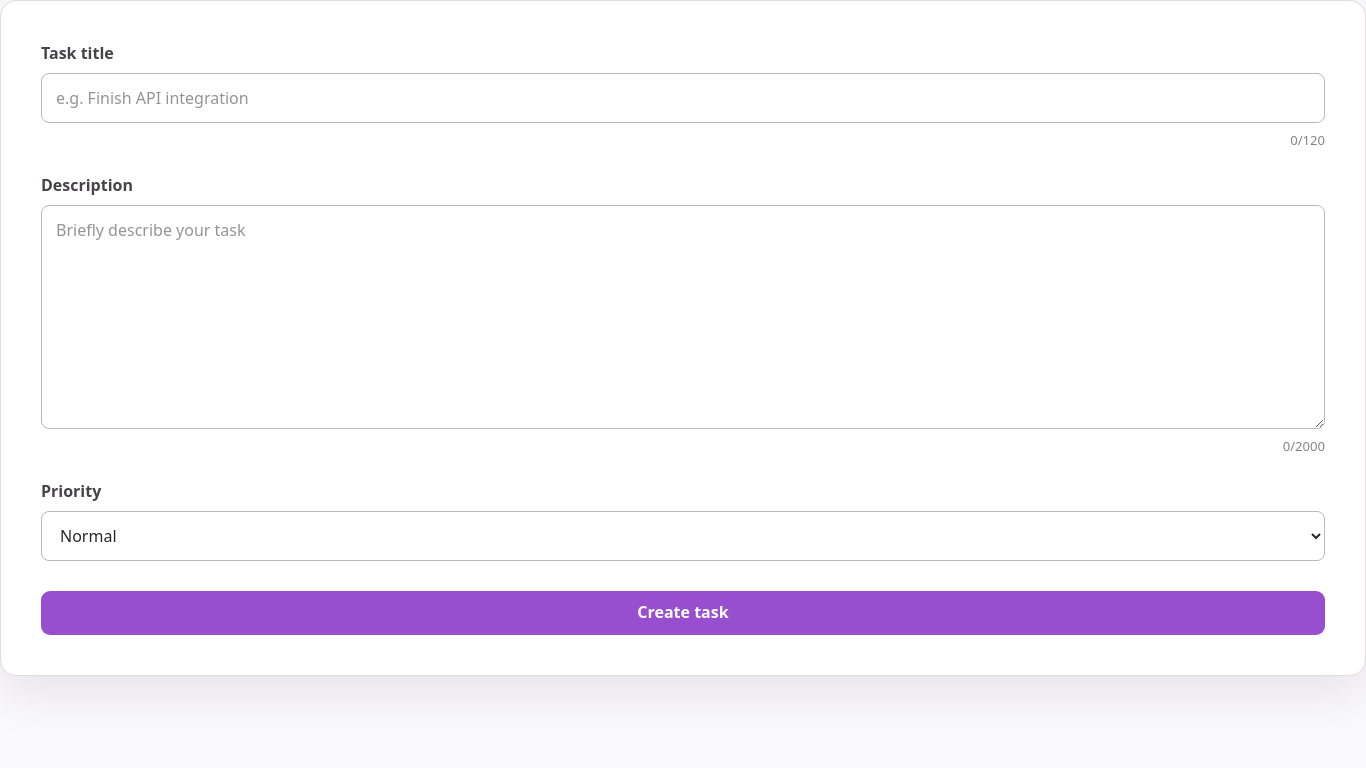
Test: TaskForm › shows validation errors and focuses the first invalid field
The width and height of the screenshot is (1366, 768).
Click the button "Create task".
click(683, 613)  # box [41,591,1325,635]
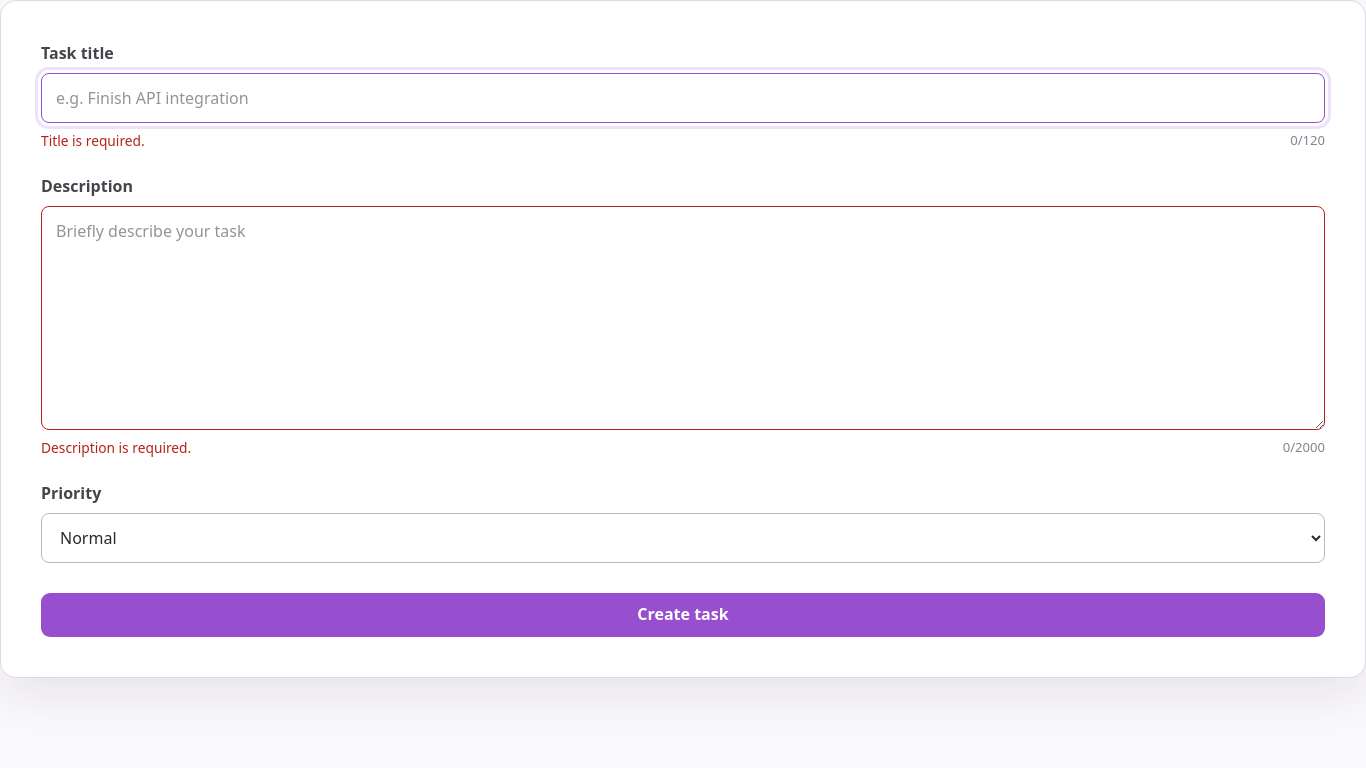
Now the text "Title is required." is shown, box [41,131,145,152]
